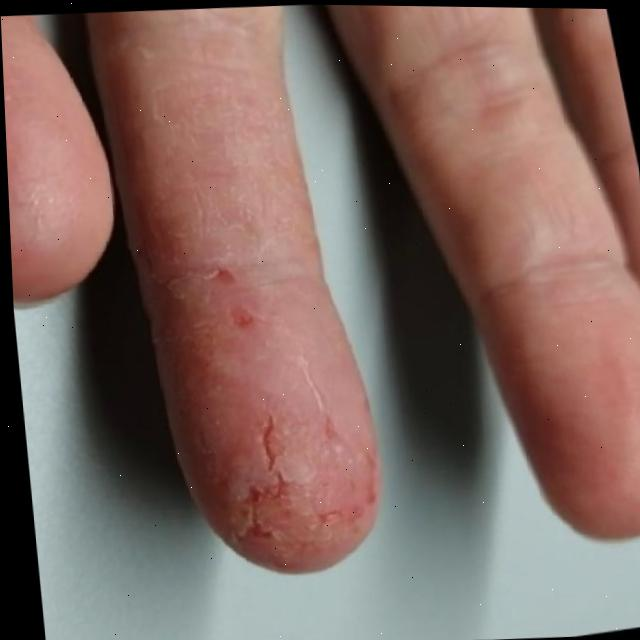Eczema: (150, 125, 360, 527)
